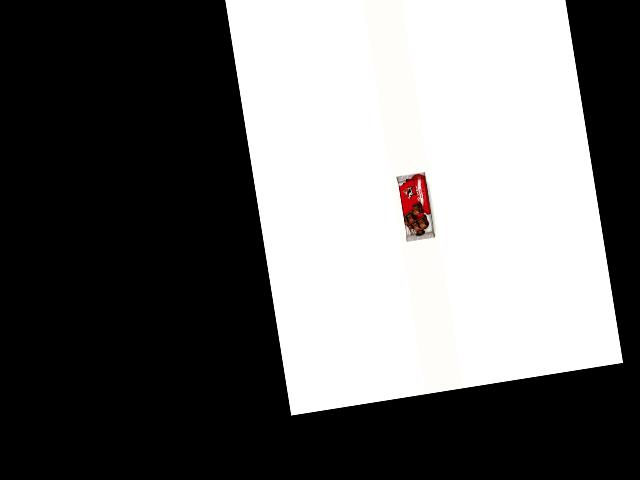chocolate: (393, 169, 440, 243)
